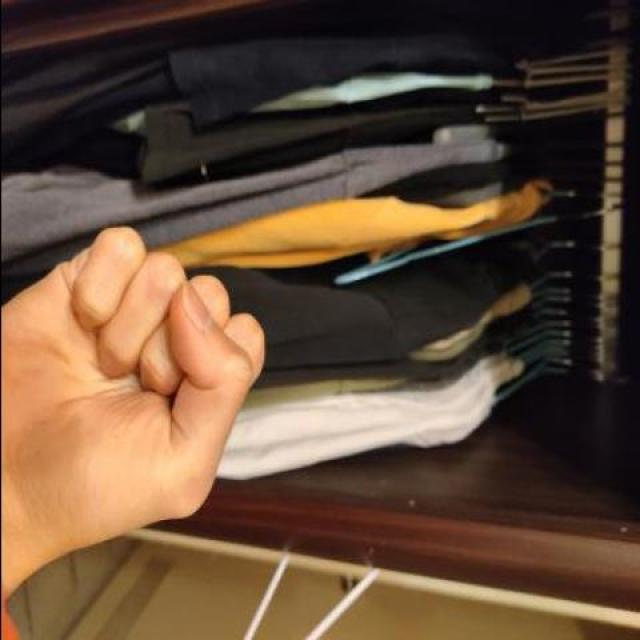Closed Hand: (0, 209, 265, 639)
